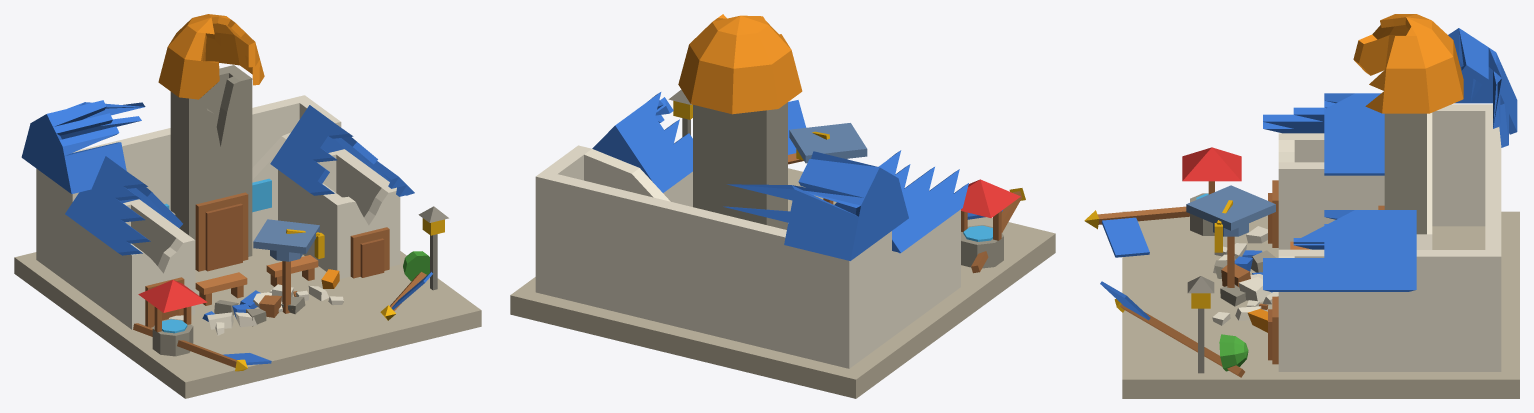
The model's file is university_t2_v3_dmg1.glb.
The picture shows the model from 3 angles, left to right: view 1: azimuth 30°, elevation 25°; view 2: azimuth 150°, elevation 25°; view 3: azimuth 270°, elevation 25°; orthographic projection. The views are drawn at different scales.
Parts seen in each view (by area): view 1: university_t2_v3_dmg1; view 2: university_t2_v3_dmg1; view 3: university_t2_v3_dmg1.
Boxes of the visible parts, x1,y1,x2,y2 form: university_t2_v3_dmg1: (14, 14, 481, 398); university_t2_v3_dmg1: (510, 14, 1055, 398); university_t2_v3_dmg1: (1084, 14, 1519, 398).
Size of the model in its own units: 0.75 by 0.62 by 0.8223.
Materials: 1 (1 with a texture image).
